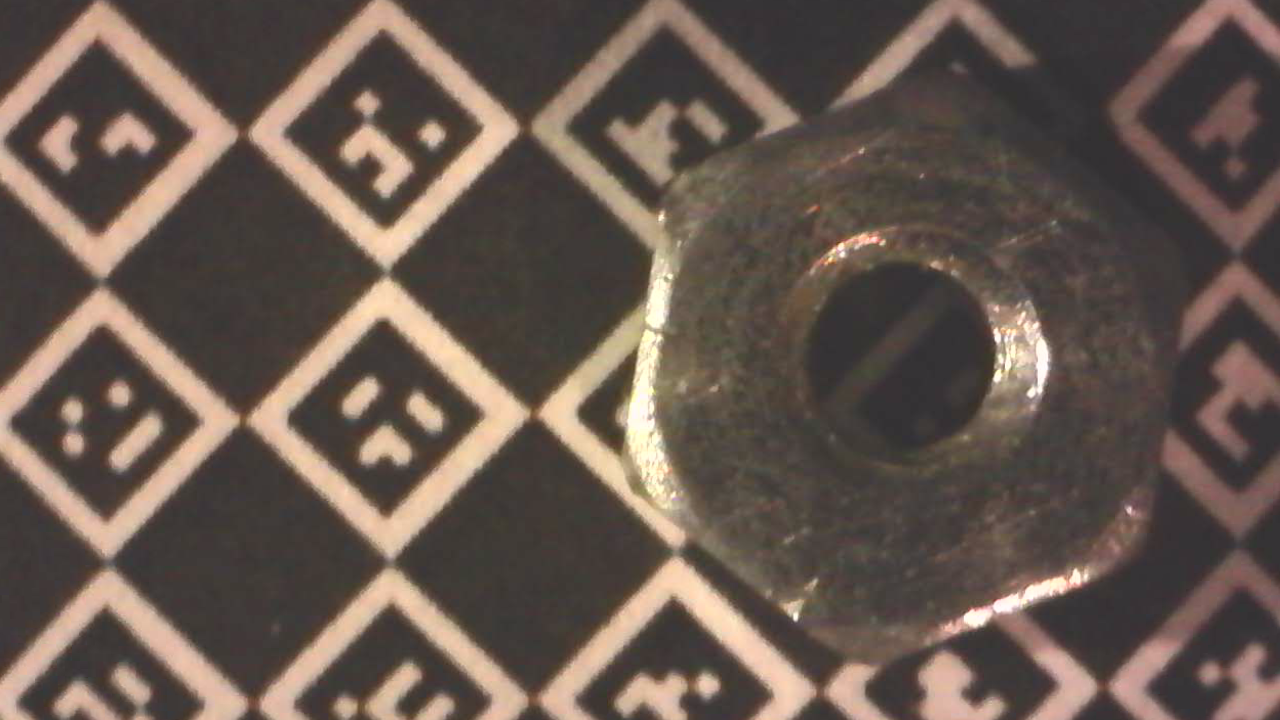Bolt: (618, 60, 1185, 671)
